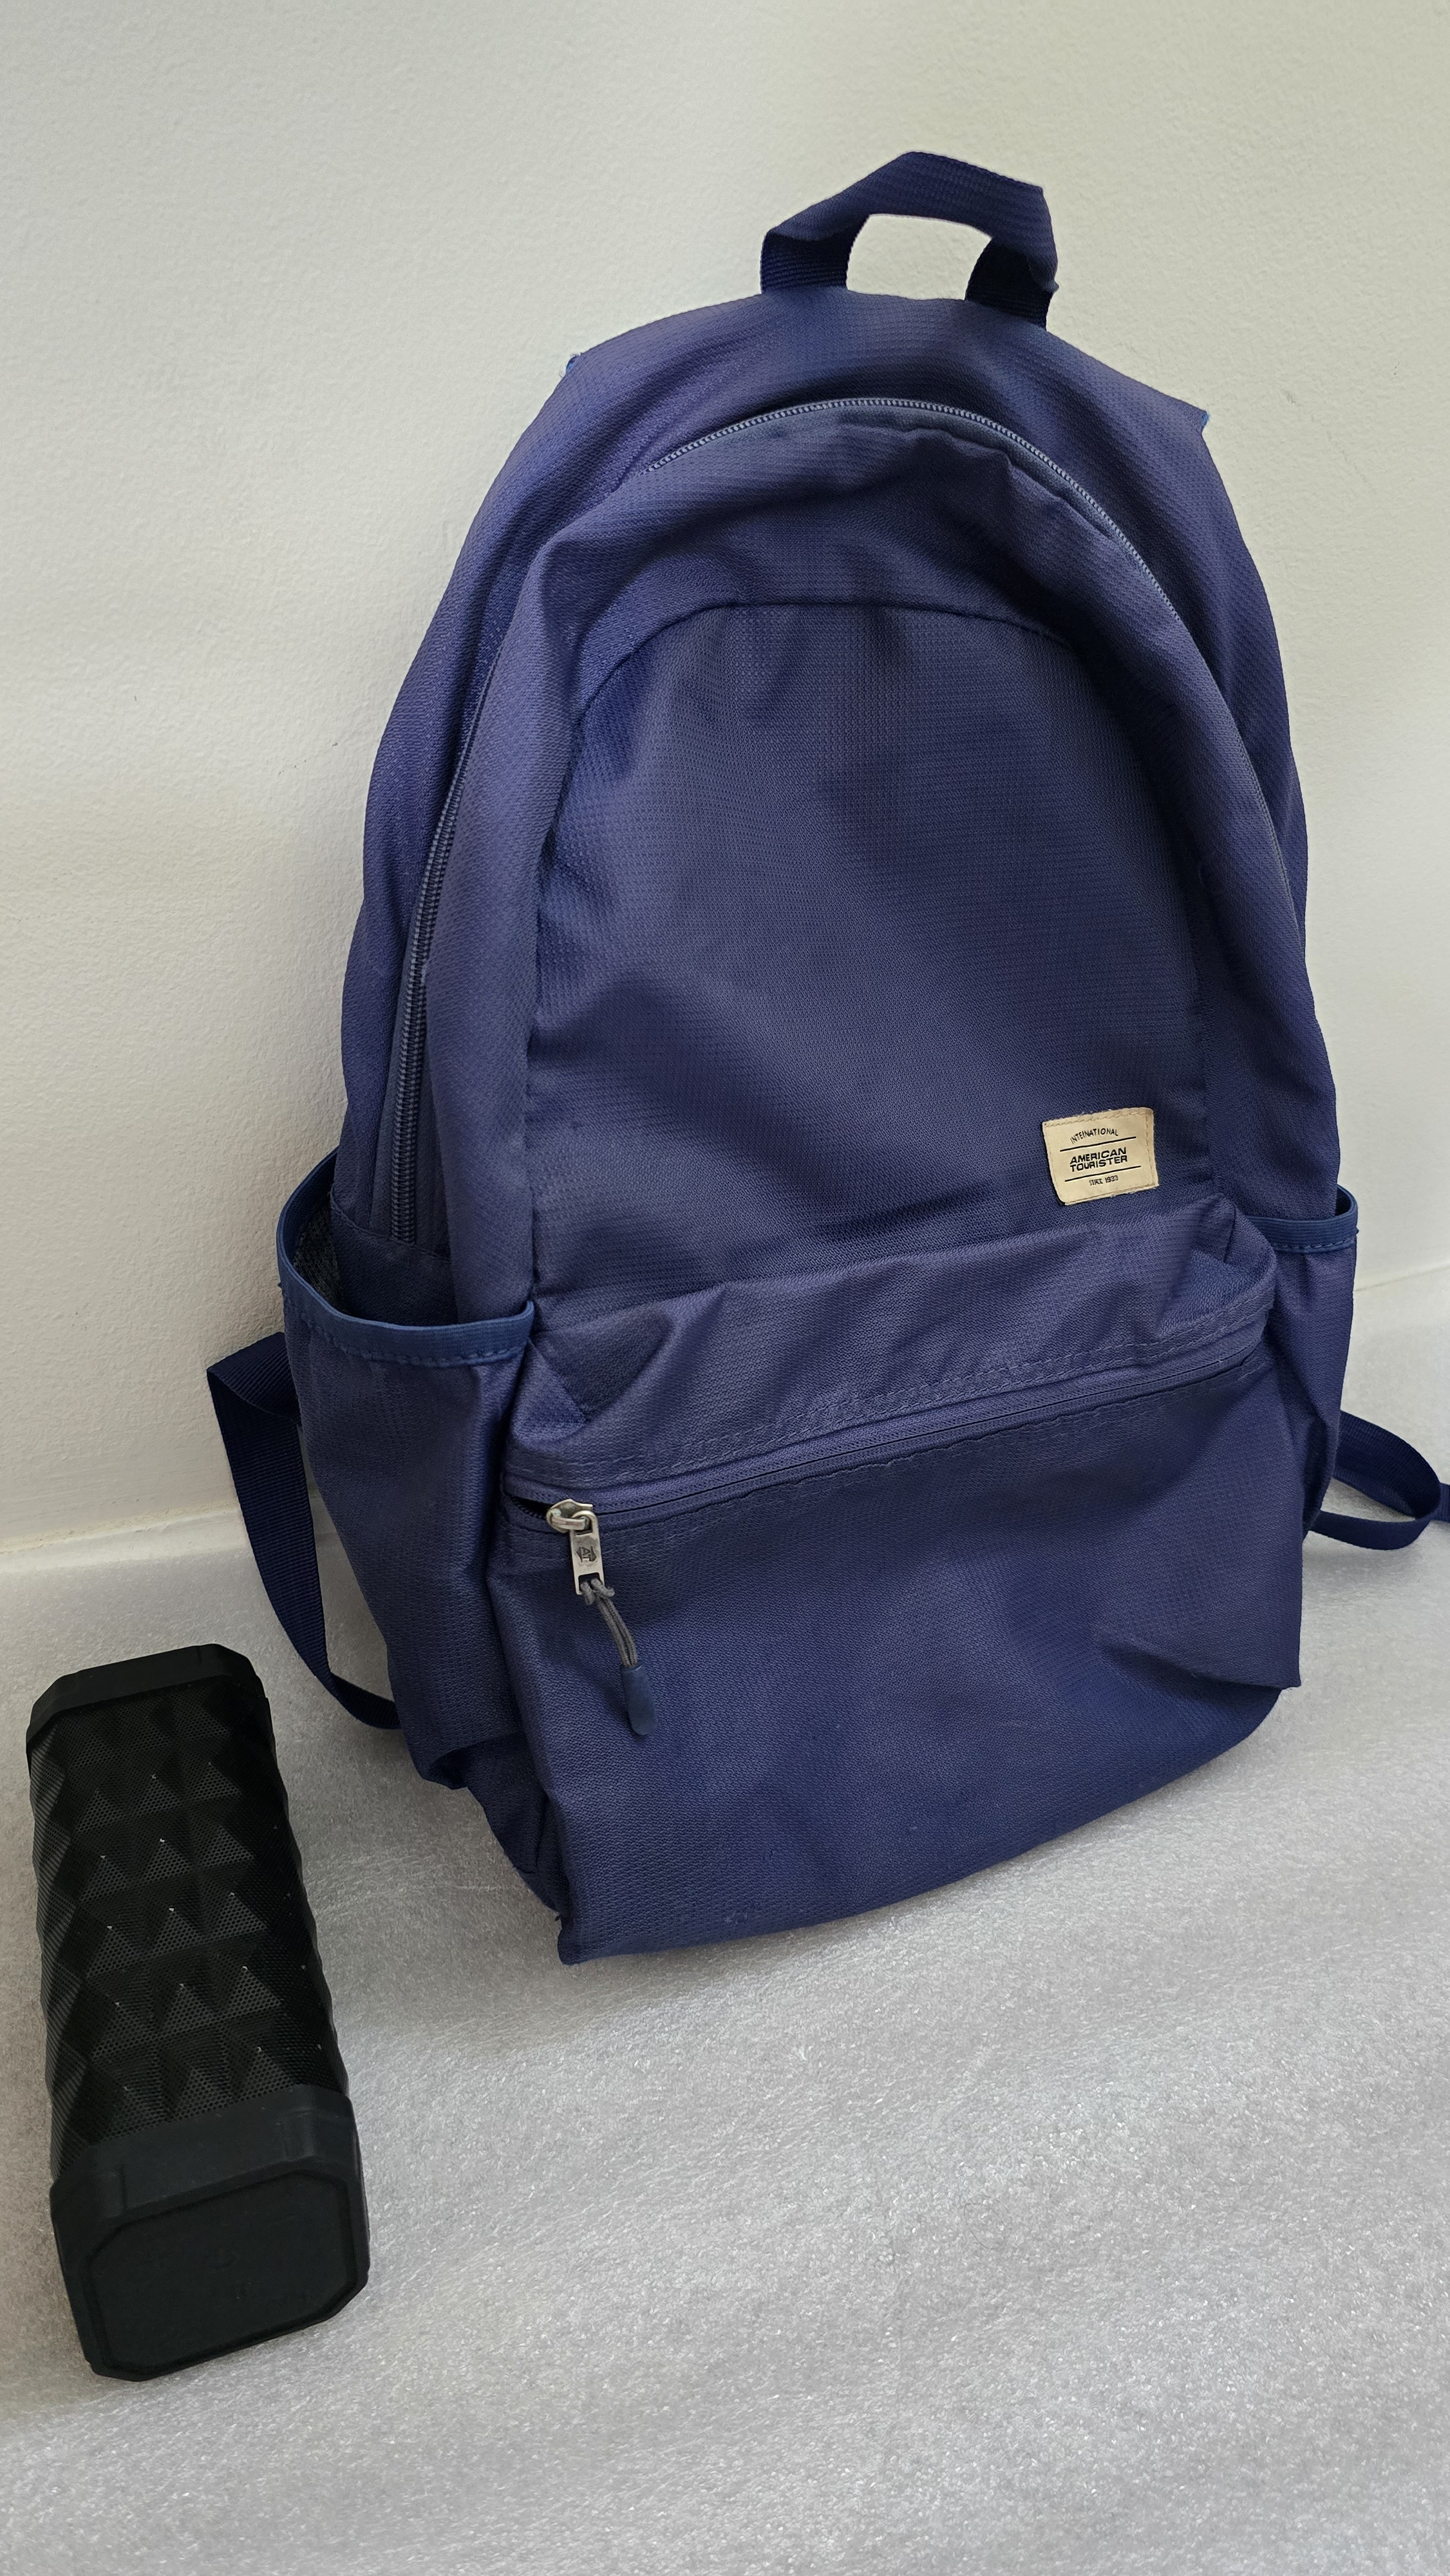bag: (225, 83, 1427, 1921)
